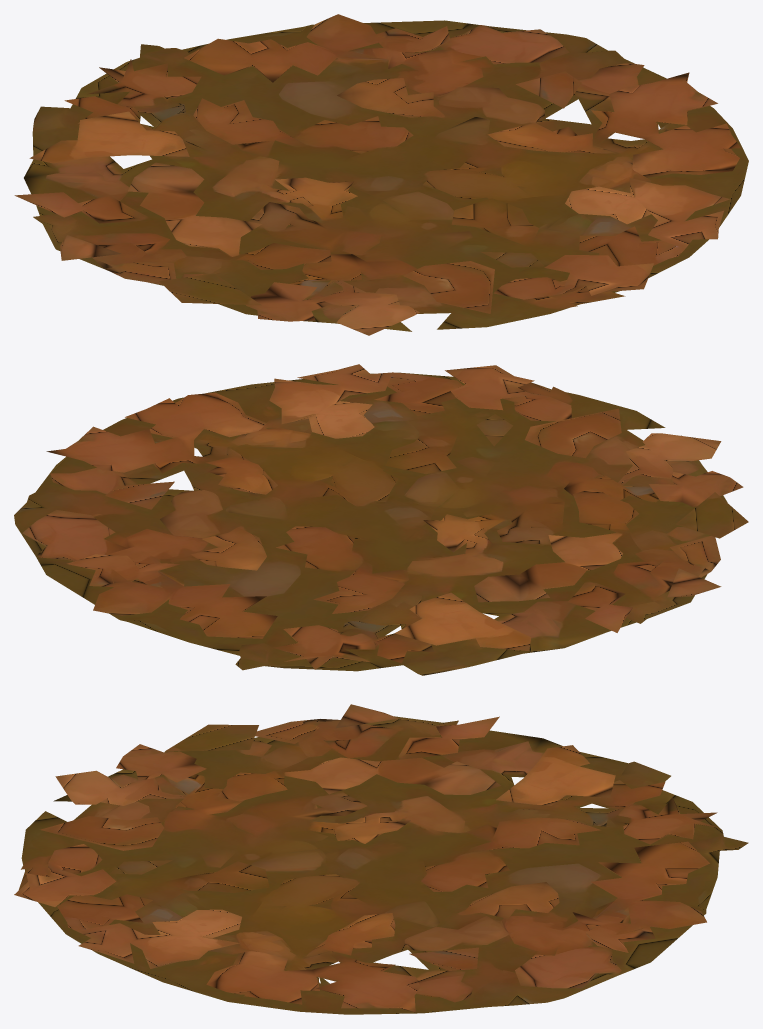
The model's file is tripo_leaf_litter_patch.glb.
The picture shows the model from 3 angles, top to bottom: view 1: azimuth 30°, elevation 25°; view 2: azimuth 150°, elevation 25°; view 3: azimuth 270°, elevation 25°; orthographic projection. The views are drawn at different scales.
Visible parts, largest first — view 1: leaf_litter_patch; view 2: leaf_litter_patch; view 3: leaf_litter_patch.
Boxes of the visible parts, bbox=[...] form: leaf_litter_patch: bbox=[14, 14, 748, 335]; leaf_litter_patch: bbox=[14, 364, 748, 675]; leaf_litter_patch: bbox=[14, 704, 748, 1014].
Size of the model in its own units: 2.5 by 0.04 by 2.5.
1 material, 1 textured.
